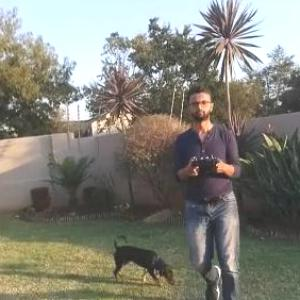follow: (172, 82, 246, 299)
null: (105, 231, 179, 287)
